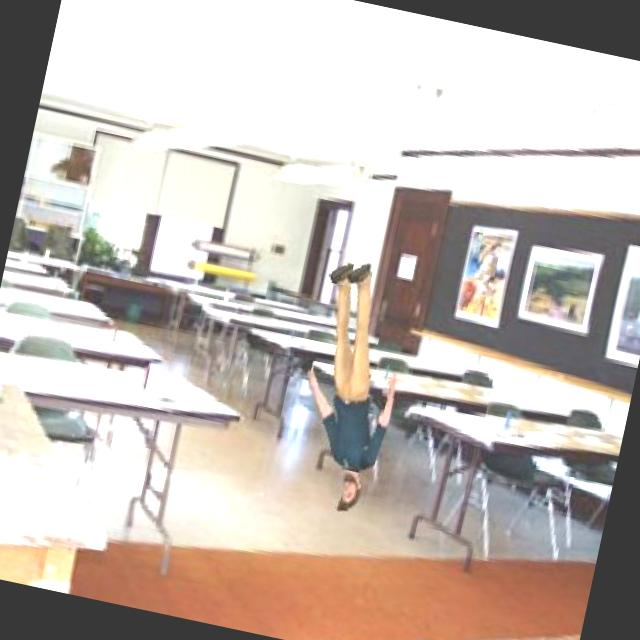Person: (276, 252, 426, 518)
